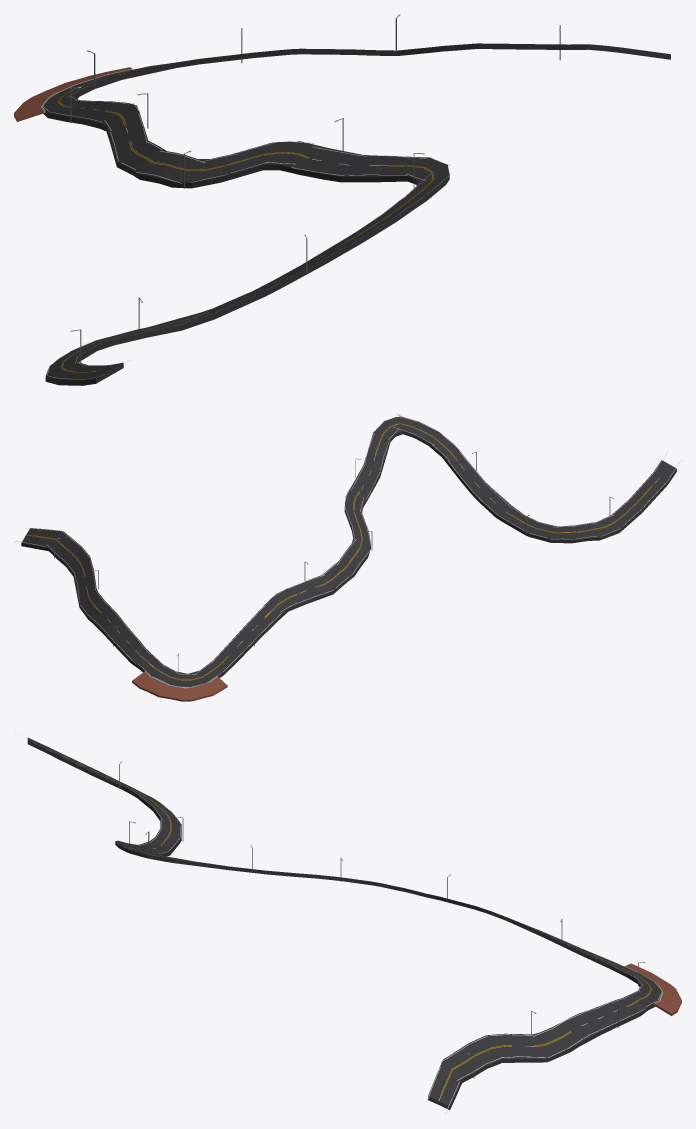
3 renders of one model, top to bottom at view 1: azimuth 30°, elevation 25°; view 2: azimuth 150°, elevation 25°; view 3: azimuth 270°, elevation 25°, orthographic. The views are drawn at different scales.
Size of the model in its own units: 200 by 49.99 by 192.
